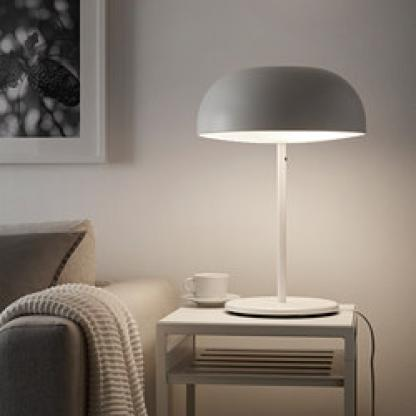Lamp: (183, 57, 369, 326)
